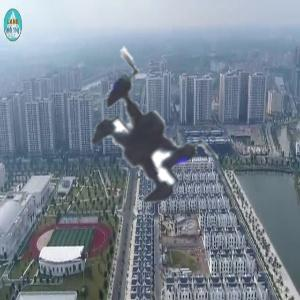drone: (22, 16, 272, 266)
